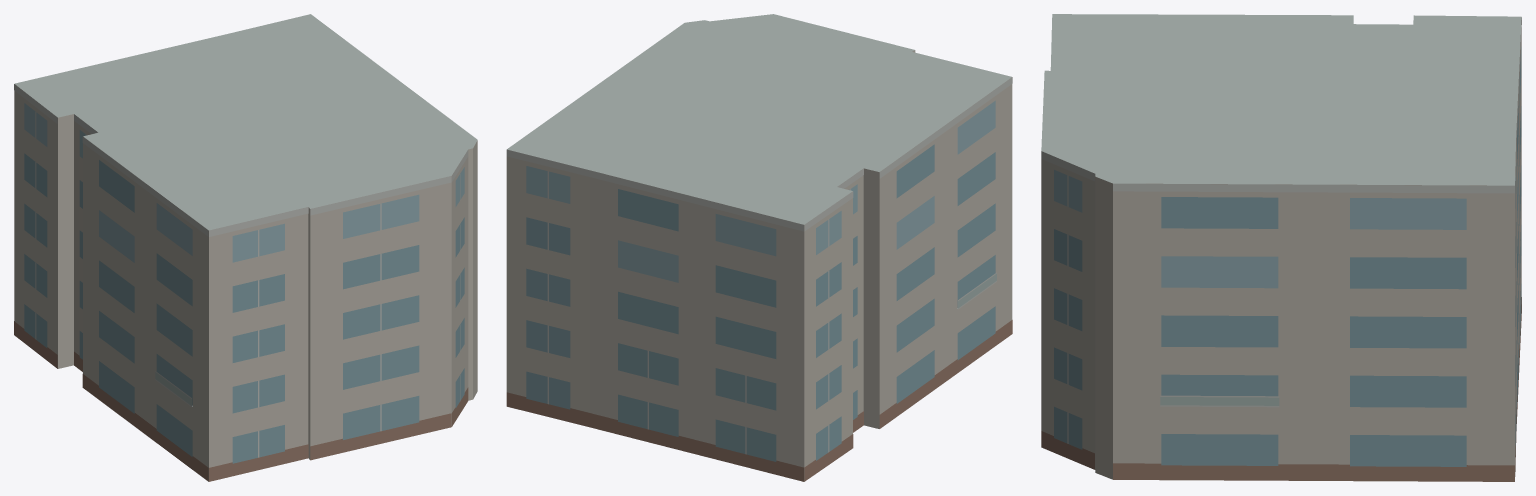
Rendered from survey-upis-32832736.glb.
The picture shows the model from 3 angles, left to right: view 1: azimuth 30°, elevation 25°; view 2: azimuth 150°, elevation 25°; view 3: azimuth 270°, elevation 25°; orthographic projection. The views are drawn at different scales.
Visible parts, largest first — view 1: survey-upis-32832736.tmp; view 2: survey-upis-32832736.tmp; view 3: survey-upis-32832736.tmp.
Part boxes in pixels (x1,y1,x2,y2): survey-upis-32832736.tmp: (14, 14, 477, 481); survey-upis-32832736.tmp: (506, 14, 1012, 481); survey-upis-32832736.tmp: (1041, 14, 1521, 481).
Size of the model in its own units: 11.46 by 9.2 by 13.53.
